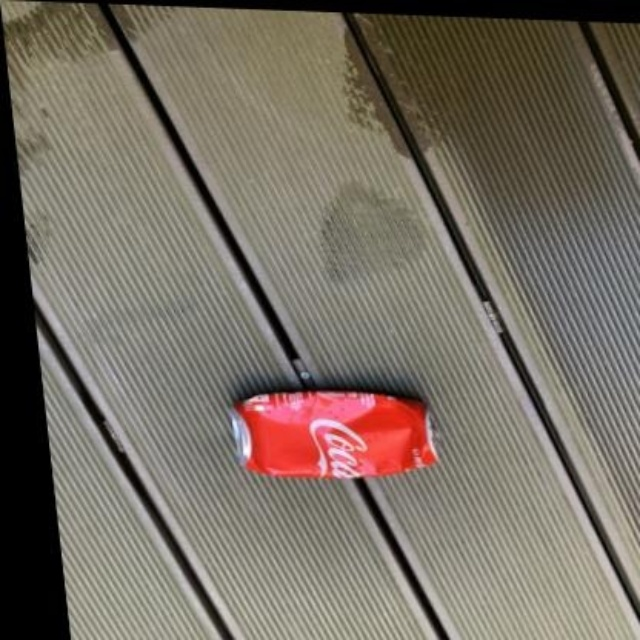trash: (231, 391, 435, 477)
